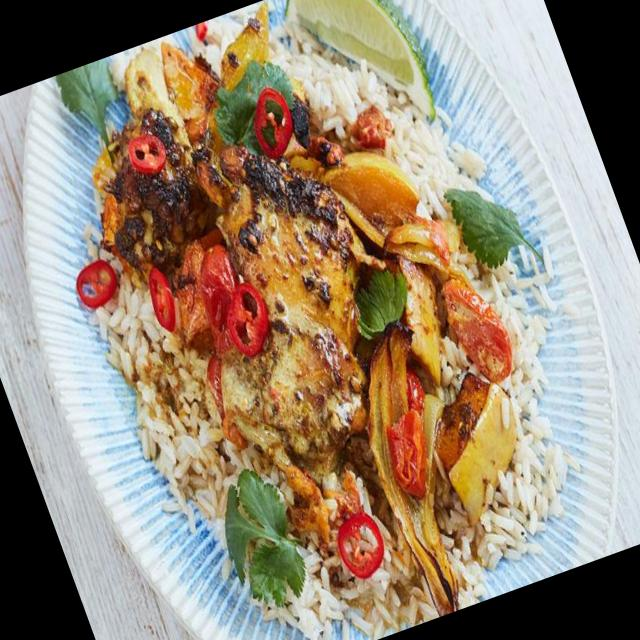chicken: (76, 0, 547, 601)
